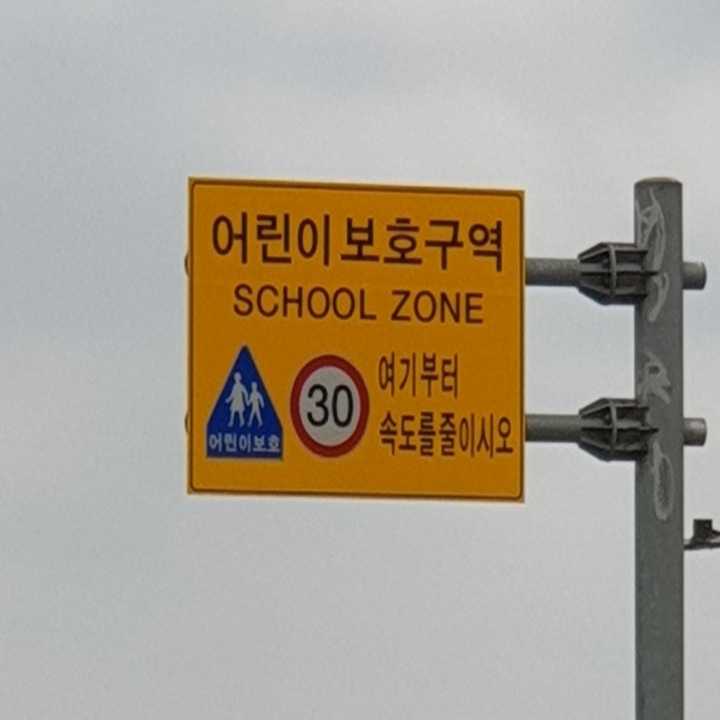child: (217, 369, 270, 431)
